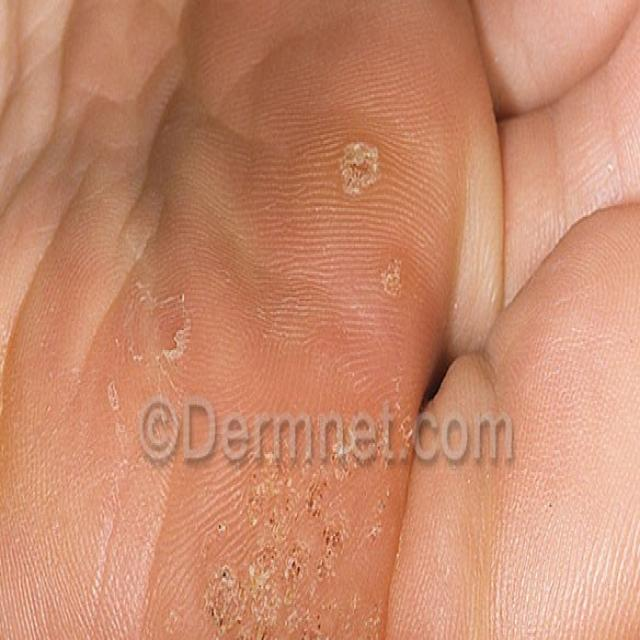Warts: (180, 448, 429, 640), (332, 98, 423, 332), (92, 235, 192, 398)
